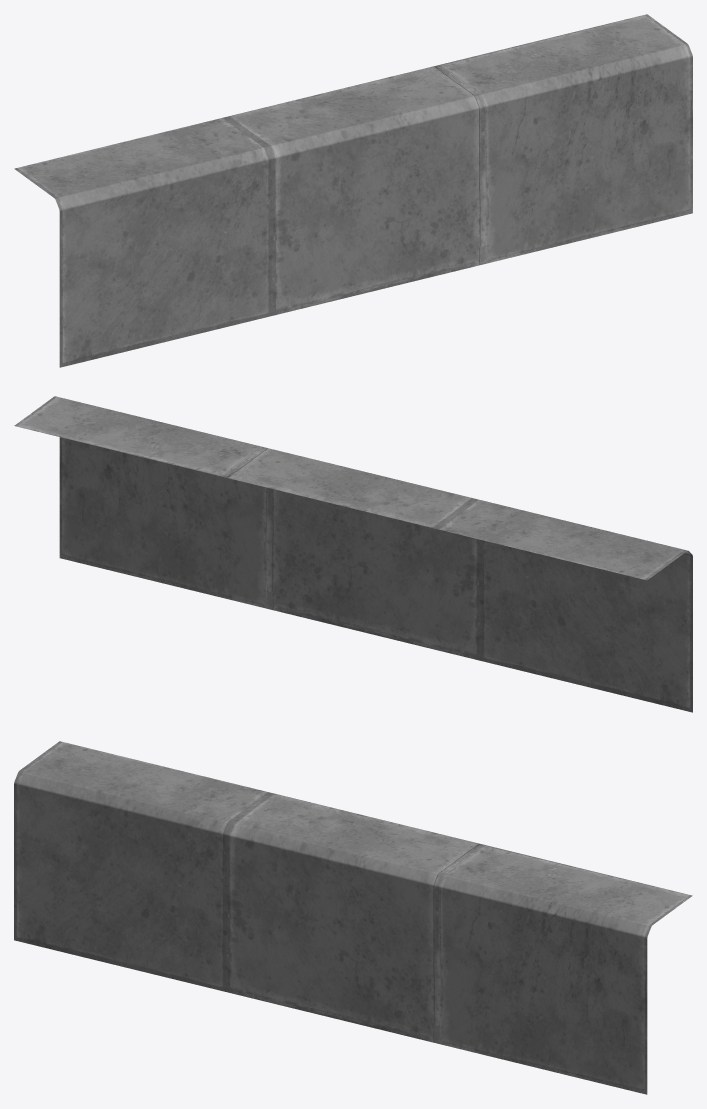
The model's file is SM_Wall_31.fbx.
The picture shows the model from 3 angles, top to bottom: view 1: azimuth 30°, elevation 25°; view 2: azimuth 150°, elevation 25°; view 3: azimuth 330°, elevation 25°; orthographic projection.
Parts seen in each view (by area): view 1: SM_Wall_32; view 2: SM_Wall_32; view 3: SM_Wall_32.
Boxes of the visible parts, x1,y1,x2,y2 form: SM_Wall_32: (14,14,692,367); SM_Wall_32: (14,396,692,712); SM_Wall_32: (14,741,692,1094).
Bounding box in the file's own units: 400 × 100 × 50.
